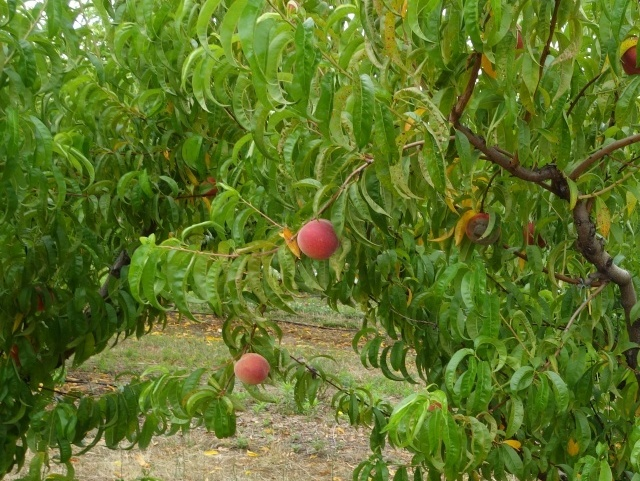peach: (293, 217, 343, 264), (228, 348, 273, 390), (463, 208, 501, 247), (616, 36, 640, 81)
